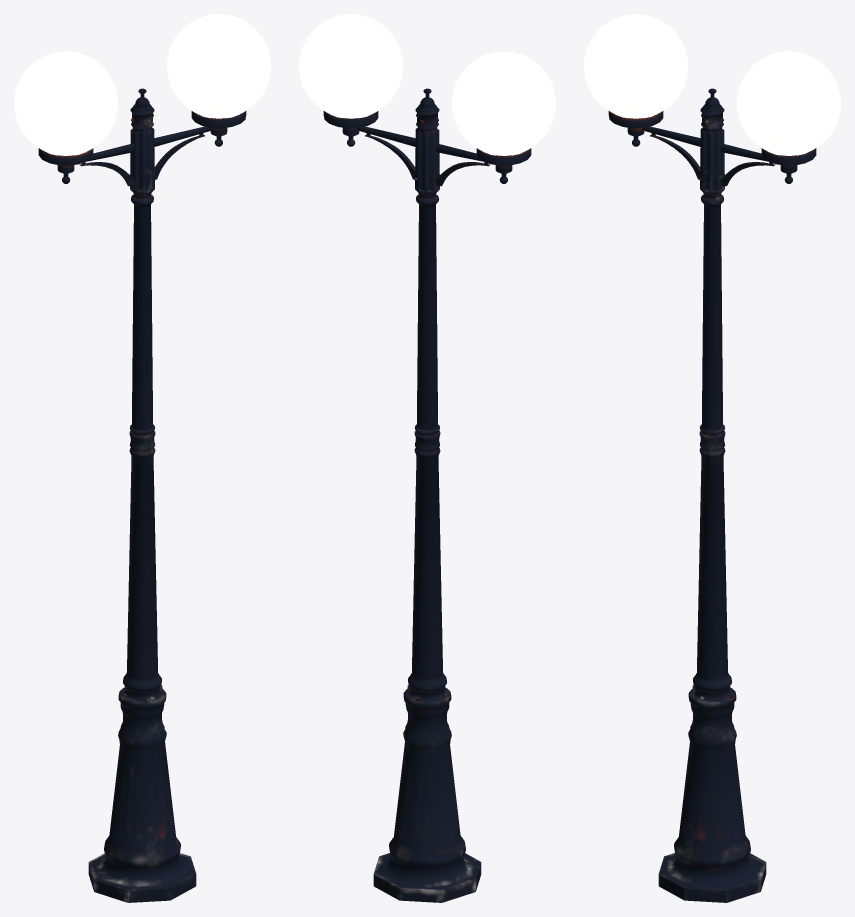
3 renders of one model, left to right at view 1: azimuth 30°, elevation 25°; view 2: azimuth 150°, elevation 25°; view 3: azimuth 330°, elevation 25°, orthographic.
Parts seen in each view (by area): view 1: Cylinder014_metal_0, Cylinder014_glass_0; view 2: Cylinder014_metal_0, Cylinder014_glass_0; view 3: Cylinder014_metal_0, Cylinder014_glass_0.
Part boxes in pixels (x1,y1,x2,y2): Cylinder014_metal_0: (38,88,246,902); Cylinder014_glass_0: (14,14,270,155); Cylinder014_metal_0: (323,88,531,902); Cylinder014_glass_0: (299,14,555,155); Cylinder014_metal_0: (608,88,816,902); Cylinder014_glass_0: (584,14,840,155).
Bounding box in the file's own units: 0.7 × 2.32 × 0.2791.
2 materials, 2 textured.
